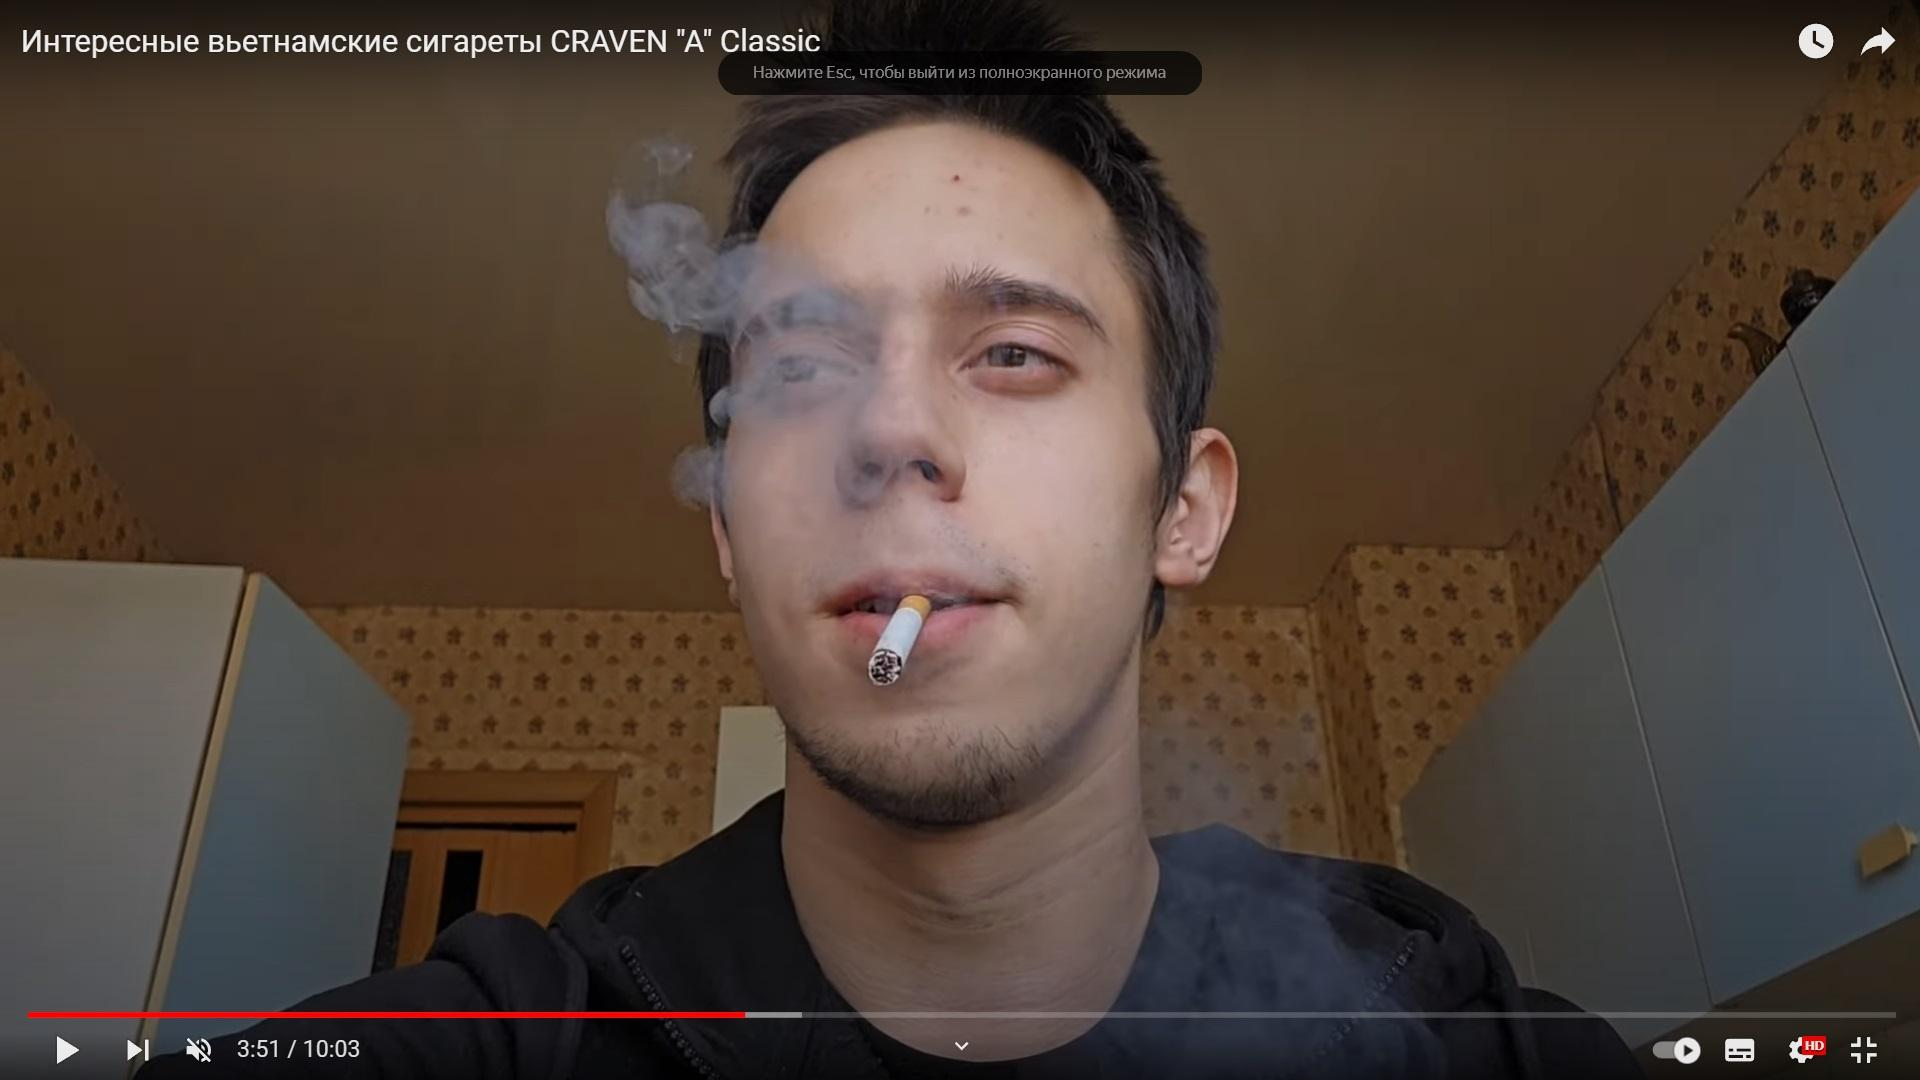cigarette: (866, 595, 932, 688)
